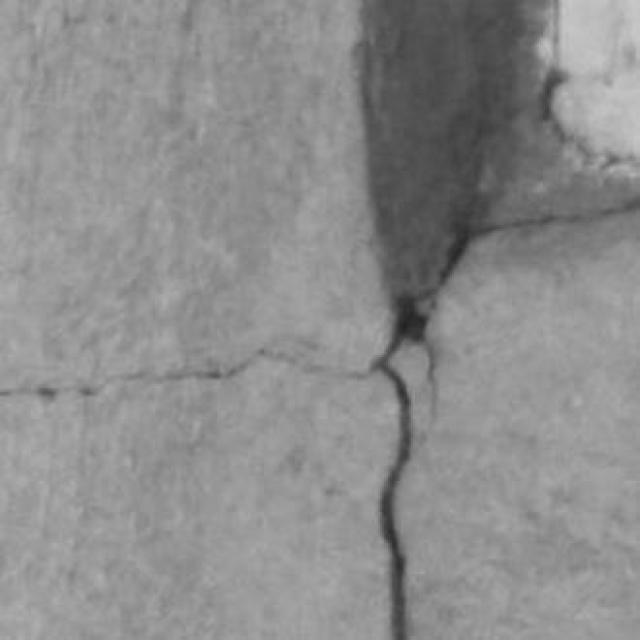crack: (363, 0, 526, 324), (0, 350, 376, 401), (0, 353, 261, 401), (379, 359, 413, 639), (470, 196, 639, 242)
